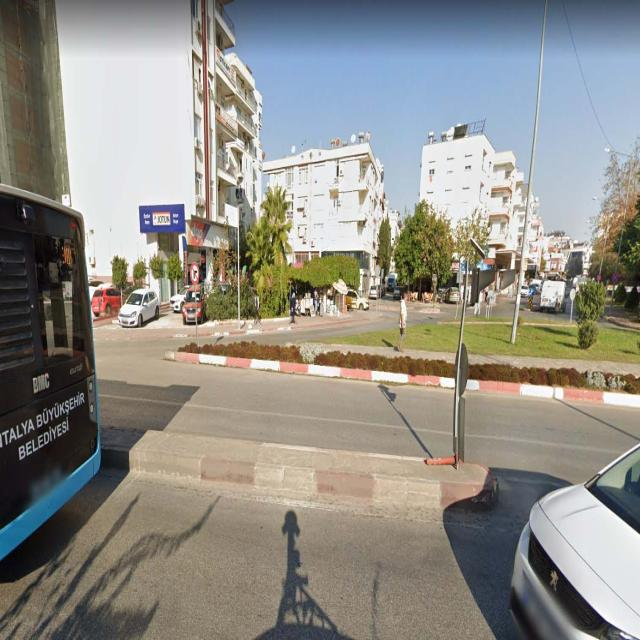sagadonulmez: (190, 263, 199, 282)
